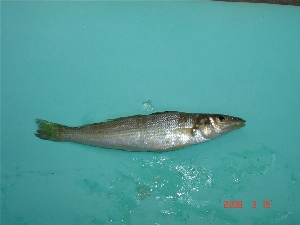kiss: (28, 103, 260, 154)
